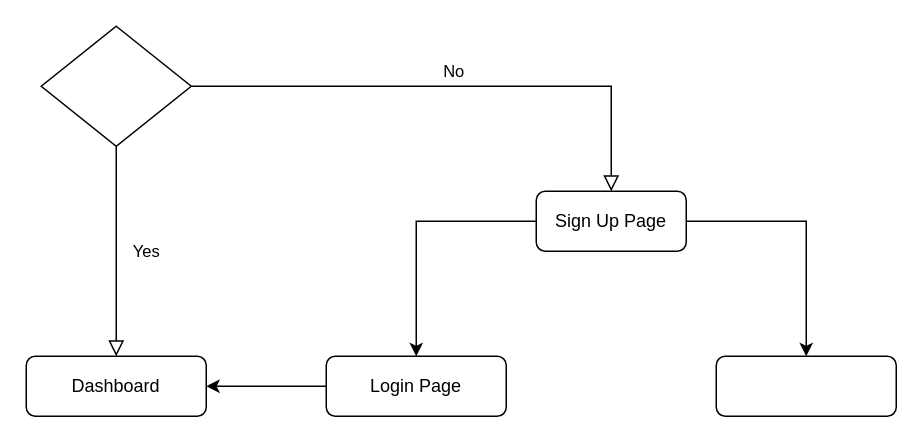
This 923x443 diagram has some shape labels left out. The shapes that lost their labels are listed below. From the top down, each one's centre as x and y in pixels, then its label:
(x=115, y=85): Is the user logged in?
(x=805, y=385): Registration Page
